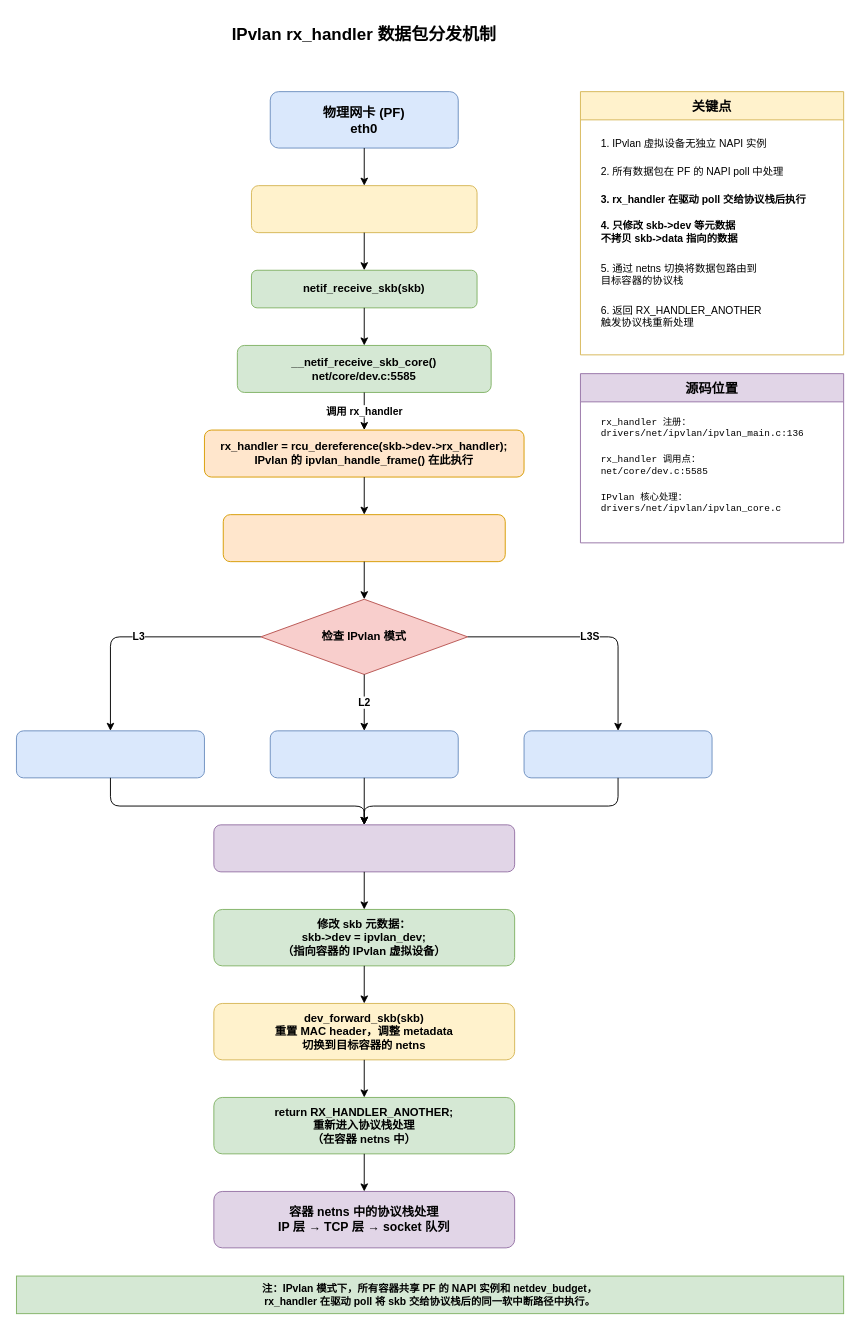
Image size: 860x1330. Some labels were removed from this diagram. The box of each missing label's shape, as (x1, y1, x2, y2) in pixels:
ipvlan_handle_frame(skb) IPvlan 核心处理函数: (222, 514, 505, 562)
L2 模式 ipvlan_handle_mode_l2(): (269, 730, 458, 778)
L3 模式 ipvlan_handle_mode_l3(): (16, 730, 204, 778)
L3S 模式 ipvlan_handle_mode_l3s(): (523, 730, 712, 778)
根据目标 IP / MAC 地址 查找对应的 IPvlan 虚拟设备: (213, 824, 515, 872)
驱动 NAPI poll 处理数据包 分配 skb 后交给协议栈: (251, 185, 477, 233)
